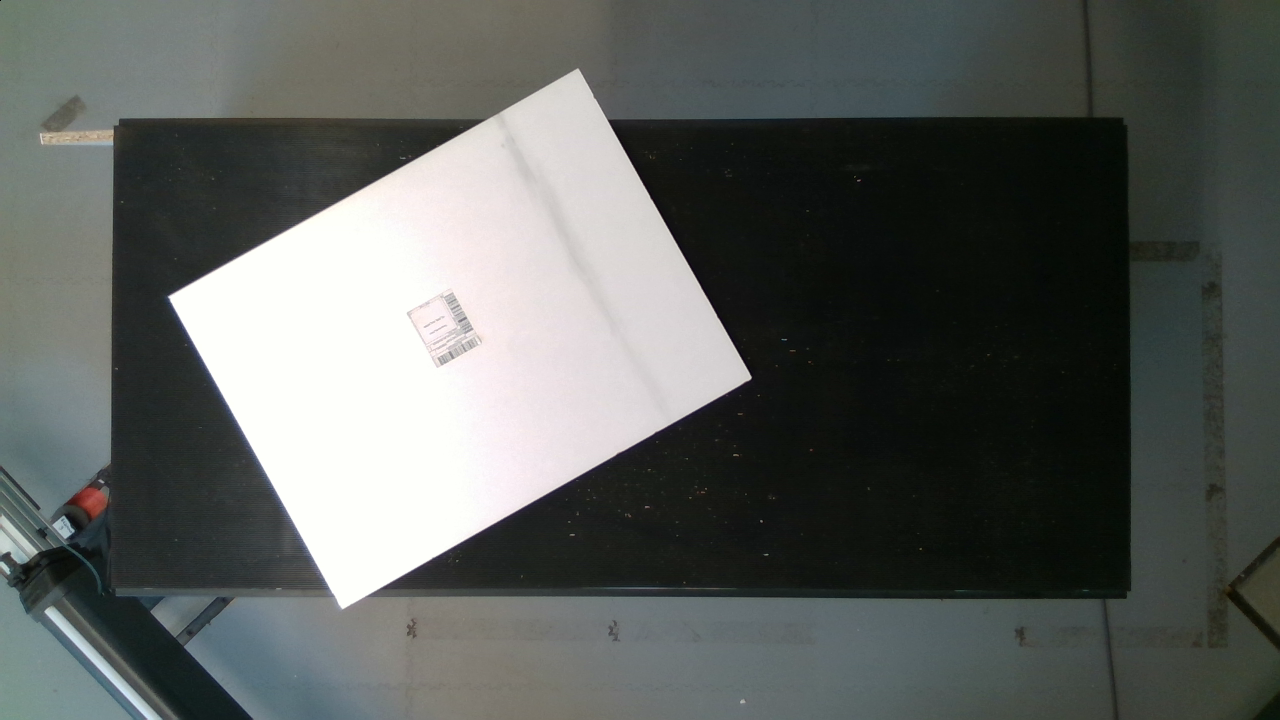barcode: (399, 285, 502, 373)
part2: (173, 66, 762, 605)
